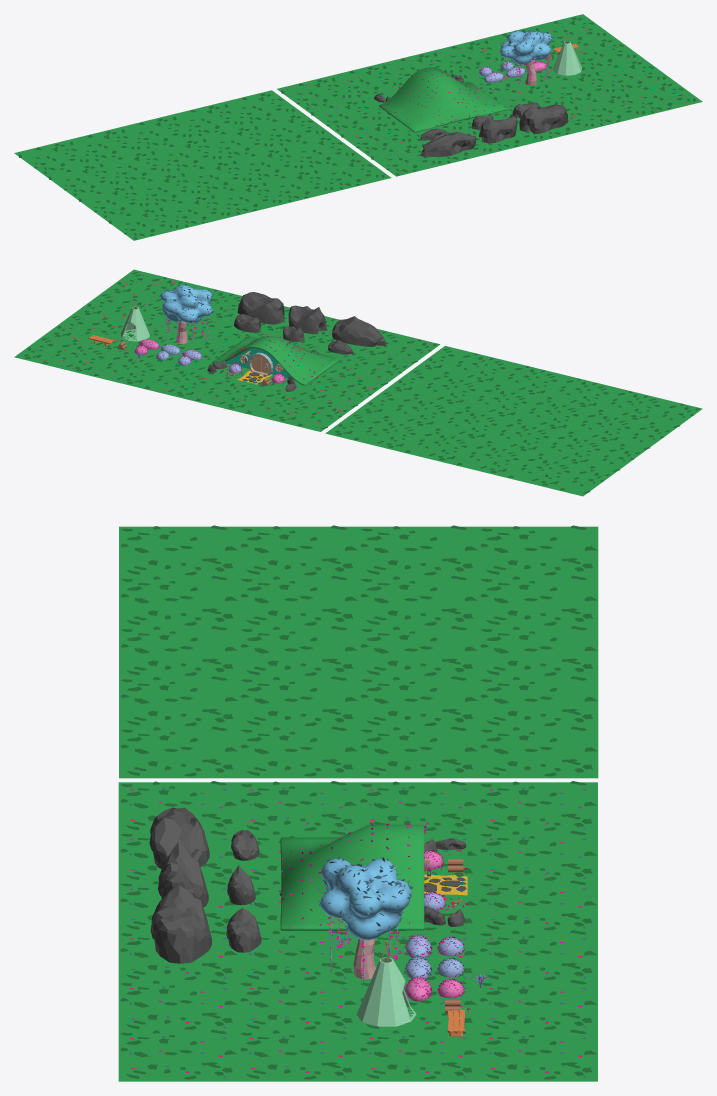
Rendered from EnvironmentAssets.fbx.
The picture shows the model from 3 angles, top to bottom: view 1: azimuth 30°, elevation 25°; view 2: azimuth 150°, elevation 25°; view 3: azimuth 270°, elevation 25°; orthographic projection. The views are drawn at different scales.
Visible parts, largest first — view 1: ground.002, ground, hobbitHouseTop, Plane.276, rock1B, rock3B, rock2B, tent; view 2: ground.002, ground, hobbitHouseTop, Plane.276, hobbitHouseBottom, rock3B, rock1B, rock2B, tent, rock1S; view 3: ground.002, ground, hobbitHouseTop, Plane.276, rock1B, tent, rock3B, hobbitHouseBottom, rock2B, rock1S, hobbitHouseRocks.
Boxes of the visible parts, x1,y1,x2,y2 form: ground.002: (14,90,391,240); ground: (277,14,702,176); hobbitHouseTop: (379,67,507,132); Plane.276: (500,30,552,85); rock1B: (519,104,568,134); rock3B: (420,131,476,157); rock2B: (479,114,517,143); tent: (553,41,581,75); ground.002: (325,346,702,496); ground: (14,269,439,431); hobbitHouseTop: (212,336,341,385); Plane.276: (159,284,213,343); hobbitHouseBottom: (204,348,301,392); rock3B: (332,316,386,346); rock1B: (237,292,284,324); rock2B: (288,305,327,334); tent: (121,306,149,341); rock1S: (234,314,260,332); ground.002: (119,525,598,778); ground: (118,781,597,1081); hobbitHouseTop: (279,822,426,930); Plane.276: (318,856,413,983); rock1B: (150,885,211,963); tent: (356,957,416,1026); rock3B: (149,807,209,868); hobbitHouseBottom: (424,842,468,927); rock2B: (158,841,208,907); rock1S: (226,908,261,952); hobbitHouseRocks: (424,838,466,926).
Size of the model in its own units: 110 by 10.21 by 40.04.
